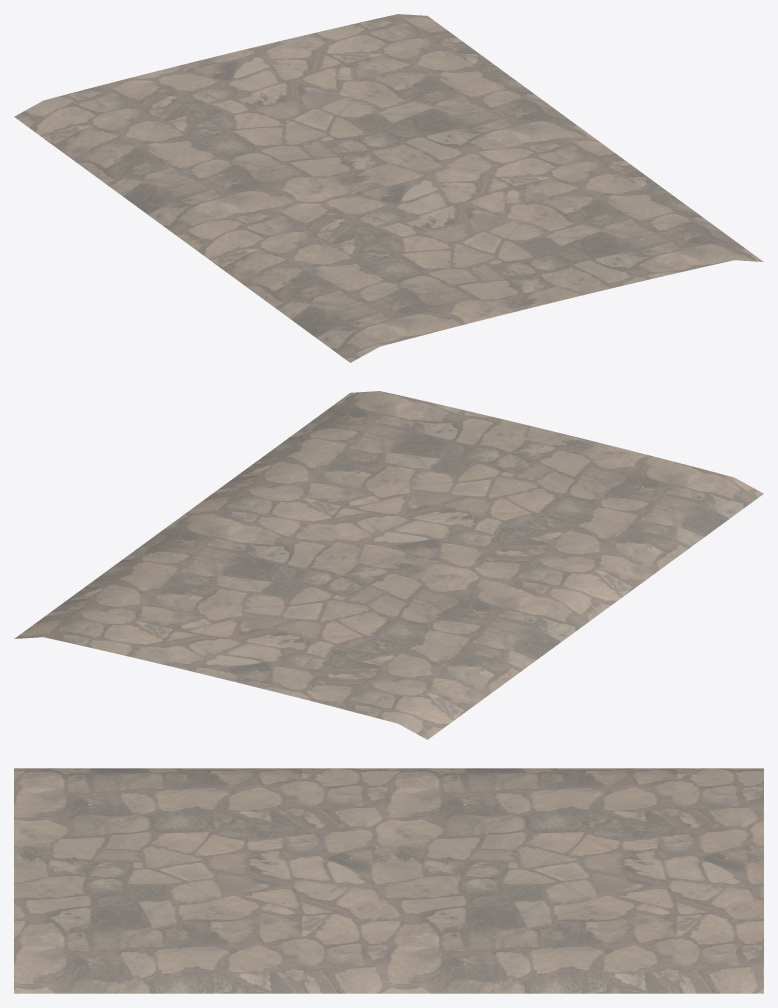
The model's file is path_straight_4m.glb.
The picture shows the model from 3 angles, top to bottom: view 1: azimuth 30°, elevation 25°; view 2: azimuth 150°, elevation 25°; view 3: azimuth 270°, elevation 25°; orthographic projection. The views are drawn at different scales.
Visible parts, largest first — view 1: Path_Straight_4m; view 2: Path_Straight_4m; view 3: Path_Straight_4m.
Boxes of the visible parts, x1,y1,x2,y2 form: Path_Straight_4m: (14,14,763,362); Path_Straight_4m: (14,391,763,739); Path_Straight_4m: (14,768,763,993).
Bounding box in the file's own units: 2.84 × 0.072 × 4.
Materials: 1 (1 with a texture image).
